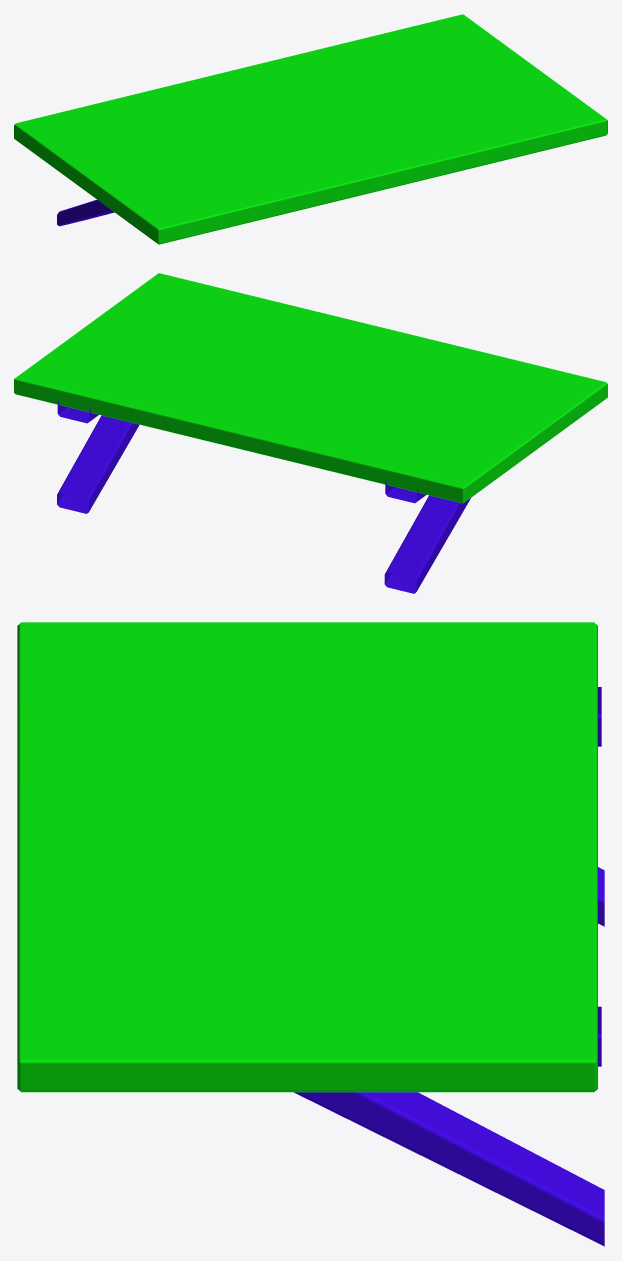
Rendered from TableWall.fbx.
3 views of the same model, one above another, from view 1: azimuth 30°, elevation 25°; view 2: azimuth 150°, elevation 25°; view 3: azimuth 270°, elevation 25° (orthographic). The views are drawn at different scales.
Visible parts, largest first — view 1: TableWall; view 2: TableWall; view 3: TableWall.
Part boxes in pixels (left/top/right/bottom): TableWall: left=14, top=14, right=607, bottom=244; TableWall: left=14, top=273, right=607, bottom=593; TableWall: left=17, top=622, right=604, bottom=1246.
Bounding box in the file's own units: 199 × 49.11 × 112.
